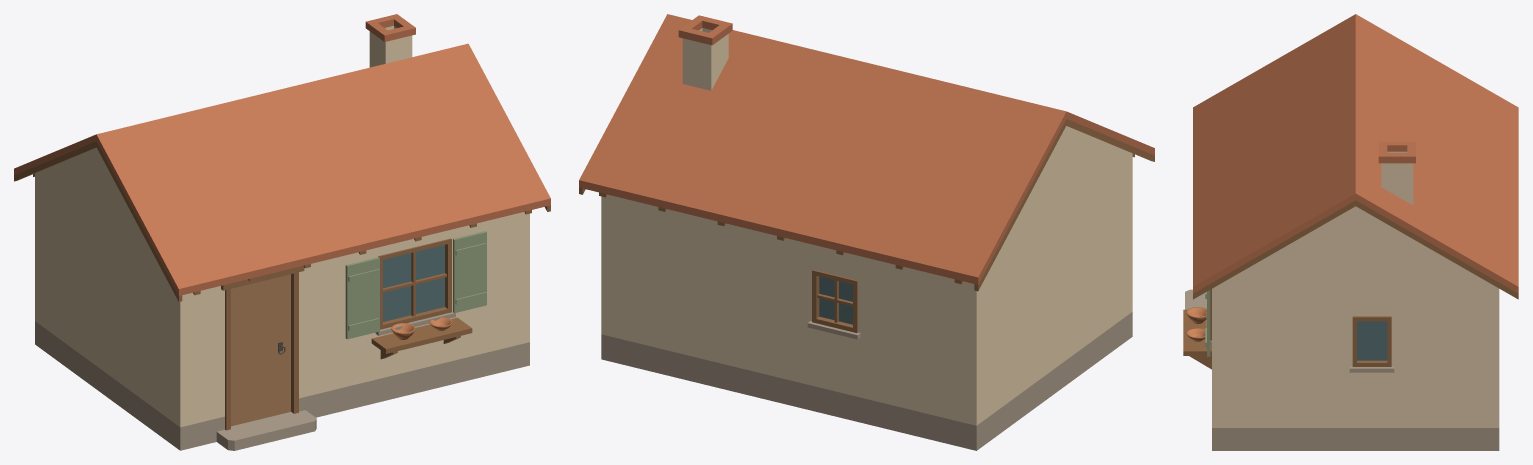
File: Casa-del-Alfarero.glb
The picture shows the model from 3 angles, left to right: view 1: azimuth 30°, elevation 25°; view 2: azimuth 150°, elevation 25°; view 3: azimuth 270°, elevation 25°; orthographic projection. The views are drawn at different scales.
Visible parts, largest first — view 1: Faldón · calle, Muro · hastial izquierdo, Muro · fachada, Puerta · hoja, Cristal · calle, Postigo · izquierdo, Escalón de entrada, Postigo · derecho, Muro · hastial derecho, Repisa de secado, Chimenea · cañón, Jamba de puerta · derecha (+5 smaller); view 2: Faldón · patio, Muro · trasera, Muro · hastial izquierdo, Muro · hastial derecho, Chimenea · cañón, Cristal · patio, Chimenea · remate, Faldón · calle, Tabla de borde · patio izquierda, Tabla de borde · calle izquierda; view 3: Muro · hastial derecho, Faldón · calle, Faldón · patio, Cristal · lateral, Chimenea · cañón, Tabla de borde · patio derecha, Tabla de borde · calle derecha, Chimenea · remate, Repisa de secado.
Part boxes in pixels (bbox=[...]): Faldón · calle: bbox=[96, 43, 550, 295]; Muro · hastial izquierdo: bbox=[35, 148, 191, 450]; Muro · fachada: bbox=[191, 213, 518, 447]; Puerta · hoja: bbox=[231, 274, 290, 426]; Cristal · calle: bbox=[383, 245, 444, 321]; Postigo · izquierdo: bbox=[345, 257, 379, 339]; Escalón de entrada: bbox=[216, 410, 316, 450]; Postigo · derecho: bbox=[453, 231, 486, 313]; Muro · hastial derecho: bbox=[519, 212, 529, 367]; Repisa de secado: bbox=[371, 317, 472, 353]; Chimenea · cañón: bbox=[369, 25, 412, 67]; Jamba de puerta · derecha: bbox=[291, 272, 298, 413]; Faldón · patio: bbox=[579, 14, 1066, 284]; Muro · trasera: bbox=[613, 196, 964, 447]; Muro · hastial izquierdo: bbox=[964, 126, 1132, 450]; Muro · hastial derecho: bbox=[601, 194, 613, 361]; Chimenea · cañón: bbox=[682, 28, 728, 90]; Cristal · patio: bbox=[819, 276, 852, 324]; Chimenea · remate: bbox=[678, 15, 732, 45]; Faldón · calle: bbox=[1066, 111, 1154, 155]; Tabla de borde · patio izquierda: bbox=[974, 119, 1066, 291]; Tabla de borde · calle izquierda: bbox=[1066, 119, 1154, 161]; Muro · hastial derecho: bbox=[1212, 206, 1499, 450]; Faldón · calle: bbox=[1193, 14, 1355, 293]; Faldón · patio: bbox=[1355, 14, 1518, 293]; Cristal · lateral: bbox=[1357, 321, 1387, 360]; Chimenea · cañón: bbox=[1381, 151, 1413, 204]; Tabla de borde · patio derecha: bbox=[1355, 200, 1518, 299]; Tabla de borde · calle derecha: bbox=[1193, 200, 1355, 299]; Chimenea · remate: bbox=[1378, 141, 1415, 163]; Repisa de secado: bbox=[1183, 309, 1211, 355].
Size of the model in its own units: 5.32 by 3.87 by 4.2.
